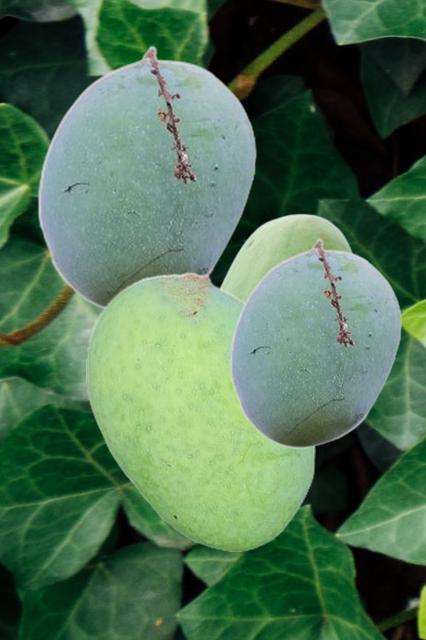green_mango: (86, 271, 314, 550), (37, 45, 256, 310), (229, 238, 401, 447), (220, 213, 352, 299)
